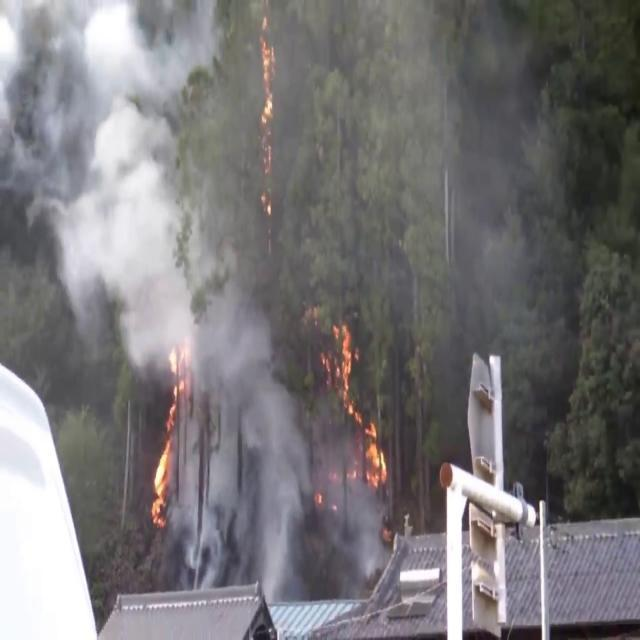Fire: (319, 312, 387, 495), (148, 340, 192, 528), (256, 13, 286, 222)
Smoke: (5, 0, 233, 396), (340, 0, 555, 384), (187, 266, 321, 592)
